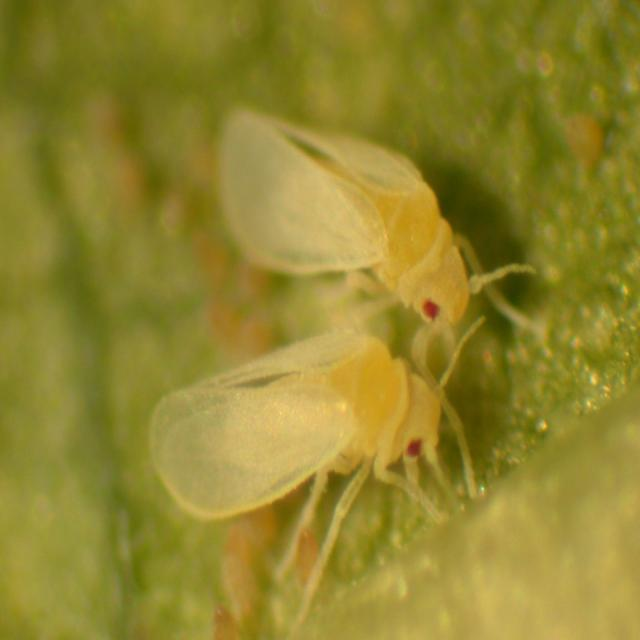whiteflies: (195, 74, 510, 367), (123, 318, 493, 554)
